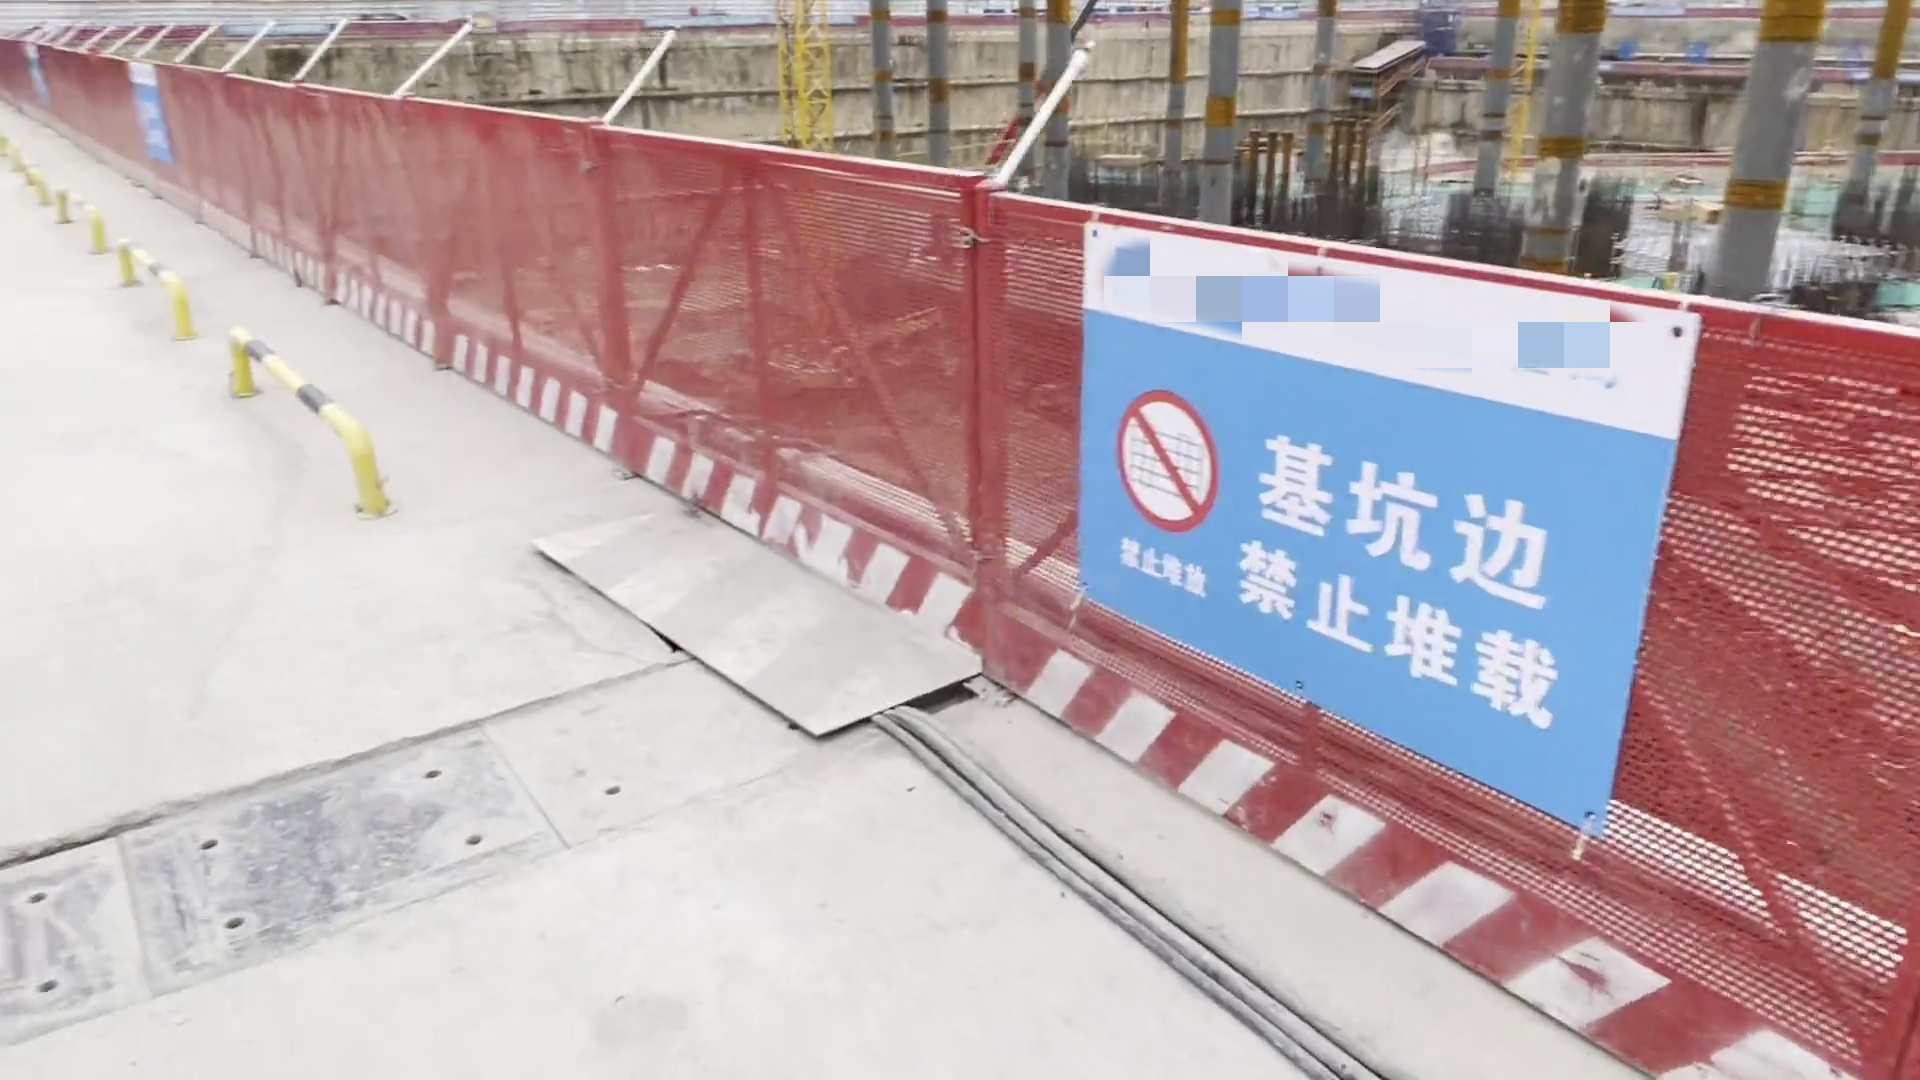fence: (508, 167, 1913, 832)
slogan: (1089, 287, 1606, 707)
